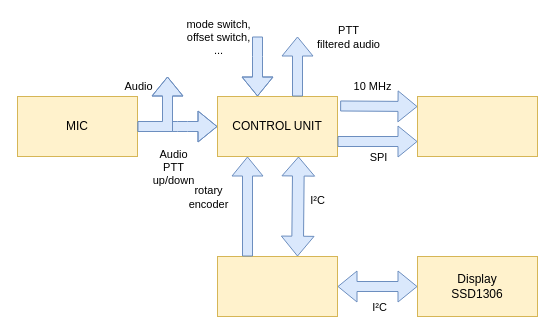
Image size: 555x334. Some labels were removed from this diagram. Each missing label, with the centre of its shape:
ADF4351 Evaluation Board: the point at 477,126
ROTARY UNIT: the point at 277,286
